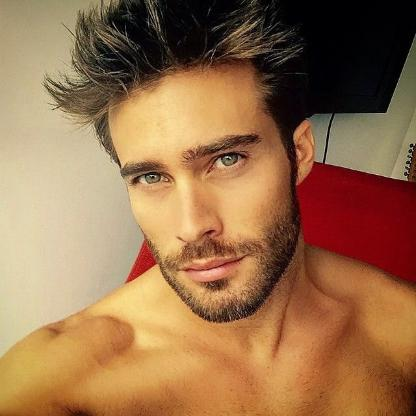Male: (106, 57, 312, 323)
